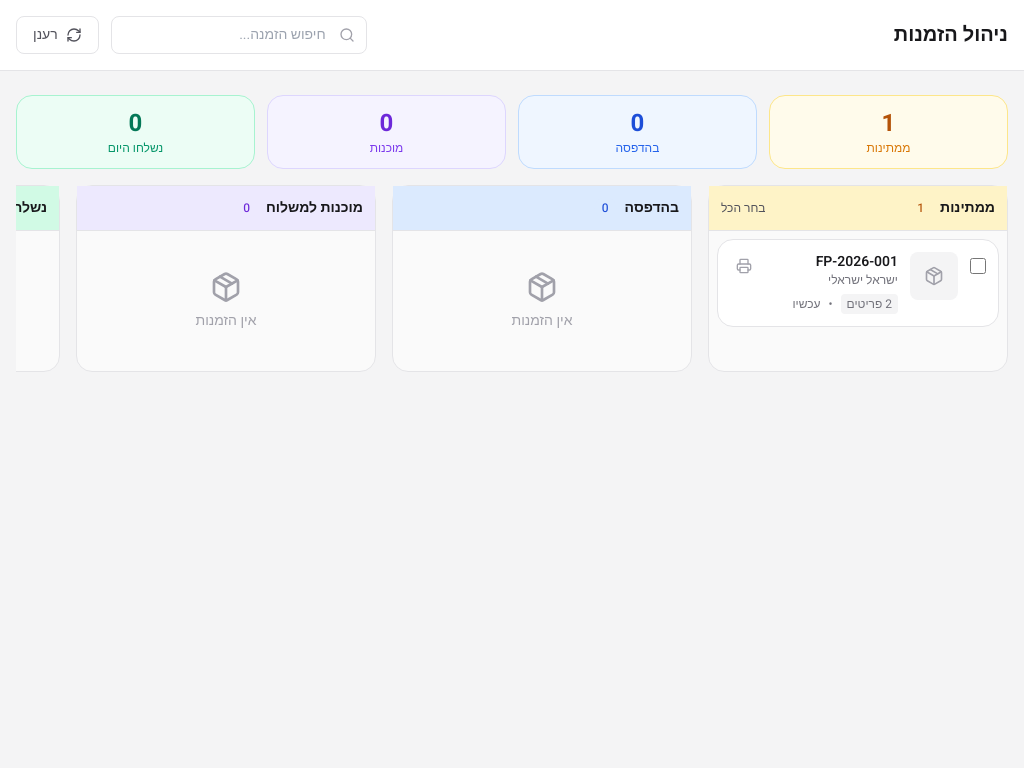
Test: Admin Fulfillment Page › Order Detail Panel › should open panel when order clicked
Note: Click on the order card
Click the text "FP-2026-001" at (857, 262), box top-left (816, 252), bottom-right (898, 272)
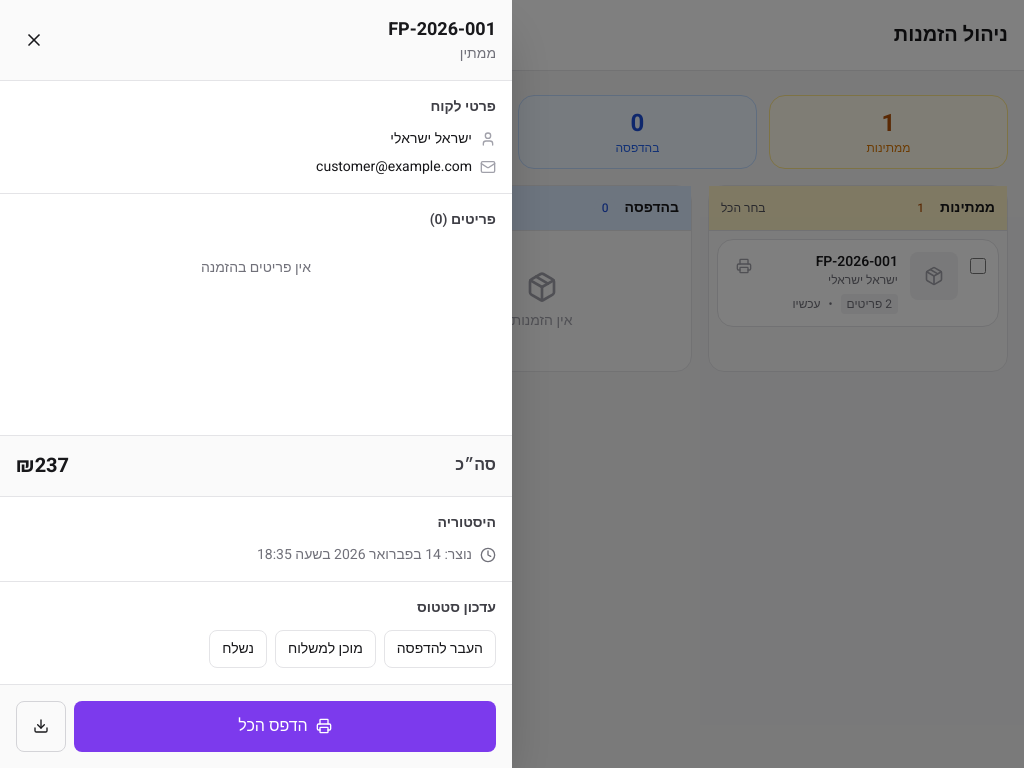
Now the element with test id "order-detail-panel" is shown, box top-left (0, 0), bottom-right (512, 767)
